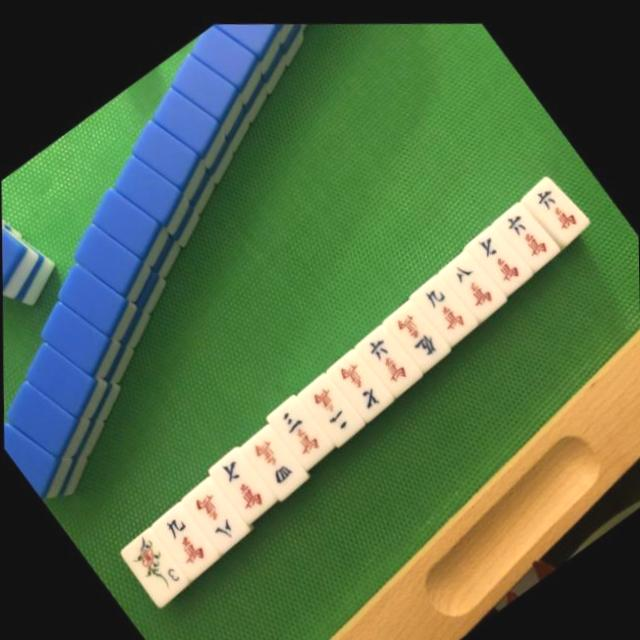bf3: (121, 525, 190, 605)
sc2: (302, 373, 362, 442)
sc3: (268, 390, 332, 467)
sc4: (240, 419, 310, 500)
sc5: (388, 297, 448, 365)
sc6: (360, 323, 420, 392), (499, 196, 557, 265), (528, 175, 582, 237)
sc7: (208, 441, 280, 523), (329, 345, 391, 417), (471, 222, 529, 290)
sc8: (180, 471, 252, 553), (447, 249, 502, 314)
sc9: (150, 496, 222, 580), (418, 273, 473, 337)
